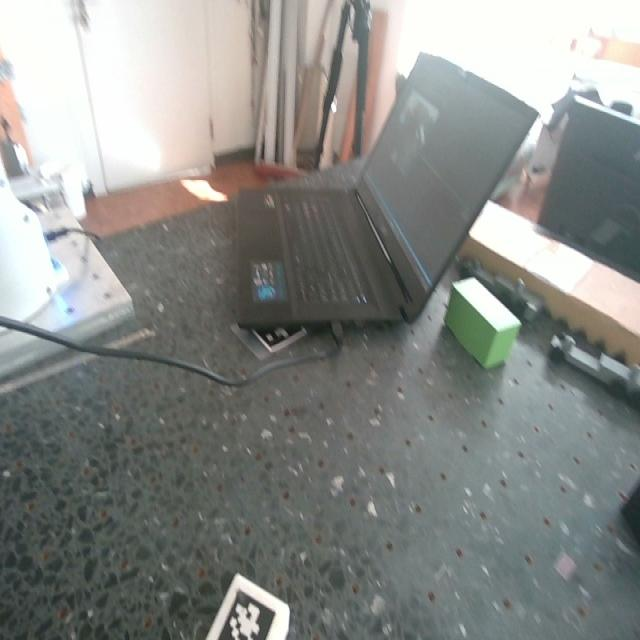Cube: (206, 577, 291, 639)
